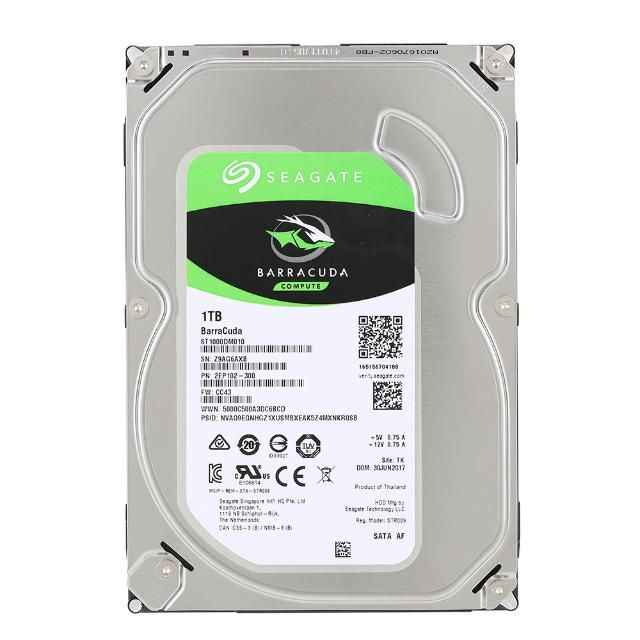HDD: (122, 42, 524, 616)
